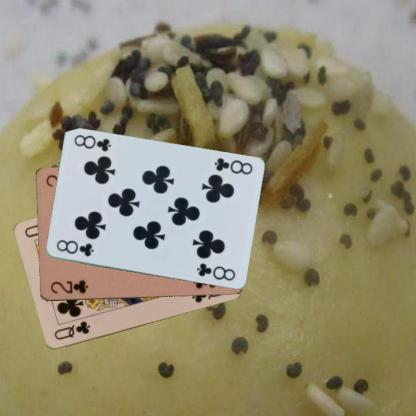2c: (48, 278, 90, 295)
8c: (211, 156, 254, 177), (53, 238, 95, 258)
Qc: (52, 319, 92, 341)
